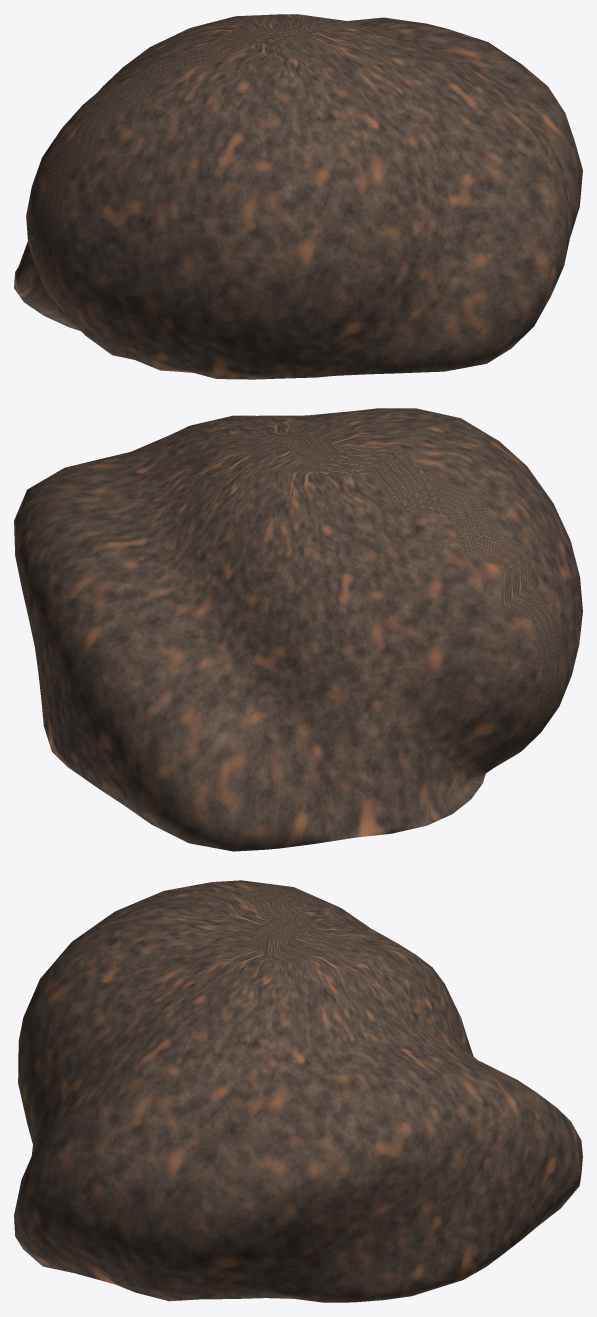
File: boulder_3.dae
3 views of the same model, one above another, from view 1: azimuth 30°, elevation 25°; view 2: azimuth 150°, elevation 25°; view 3: azimuth 270°, elevation 25° (orthographic). The views are drawn at different scales.
Parts seen in each view (by area): view 1: boulder_3; view 2: boulder_3; view 3: boulder_3.
Part boxes in pixels (left/top/right/bottom): boulder_3: left=14, top=14, right=582, bottom=379; boulder_3: left=14, top=408, right=582, bottom=851; boulder_3: left=14, top=880, right=582, bottom=1302.
Size of the model in its own units: 1.91 by 1.82 by 0.9635.
1 material, 1 textured.
